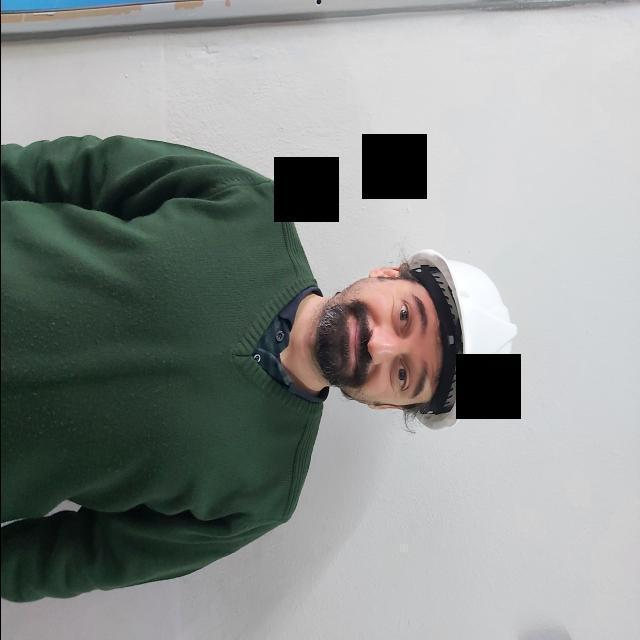white helmet: (404, 239, 522, 433)
